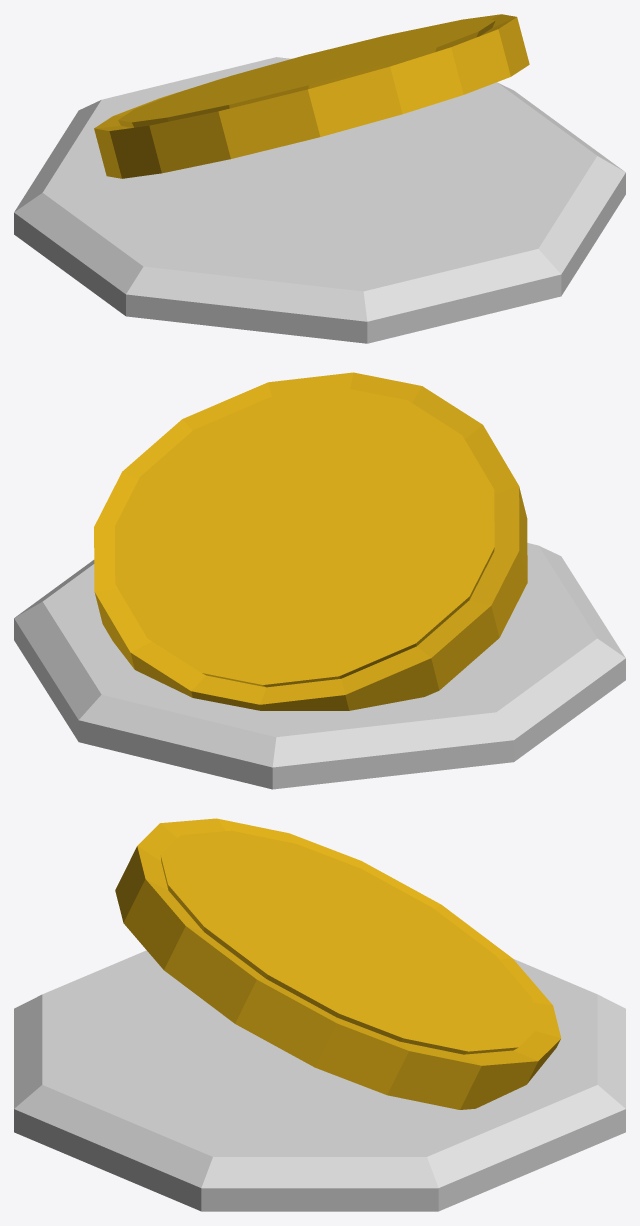
File: 20Percent.fbx
3 renders of one model, top to bottom at view 1: azimuth 30°, elevation 25°; view 2: azimuth 150°, elevation 25°; view 3: azimuth 270°, elevation 25°, orthographic. The views are drawn at different scales.
Parts seen in each view (by area): view 1: Cube, Cube.001; view 2: Cube.001, Cube; view 3: Cube, Cube.001.
Part boxes in pixels (box(x1,y1,x2,y2)): Cube: box(14, 57, 625, 343); Cube.001: box(94, 14, 529, 178); Cube.001: box(94, 372, 527, 710); Cube: box(14, 543, 625, 789); Cube: box(14, 950, 625, 1211); Cube.001: box(115, 818, 561, 1109).
Bounding box in the file's own units: 90.03 × 37.09 × 90.03.
